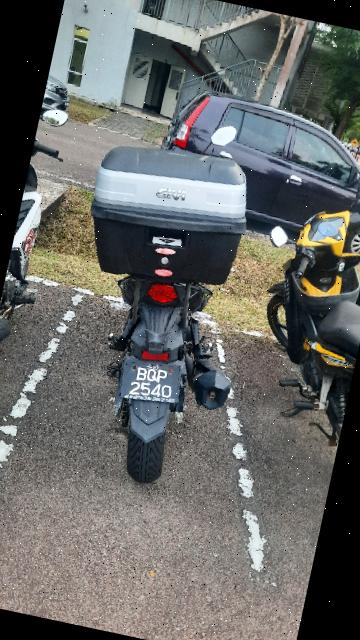License_Plate: (119, 357, 188, 409)
car: (162, 85, 360, 264)
motorcycle: (52, 116, 292, 501), (218, 146, 360, 472)
